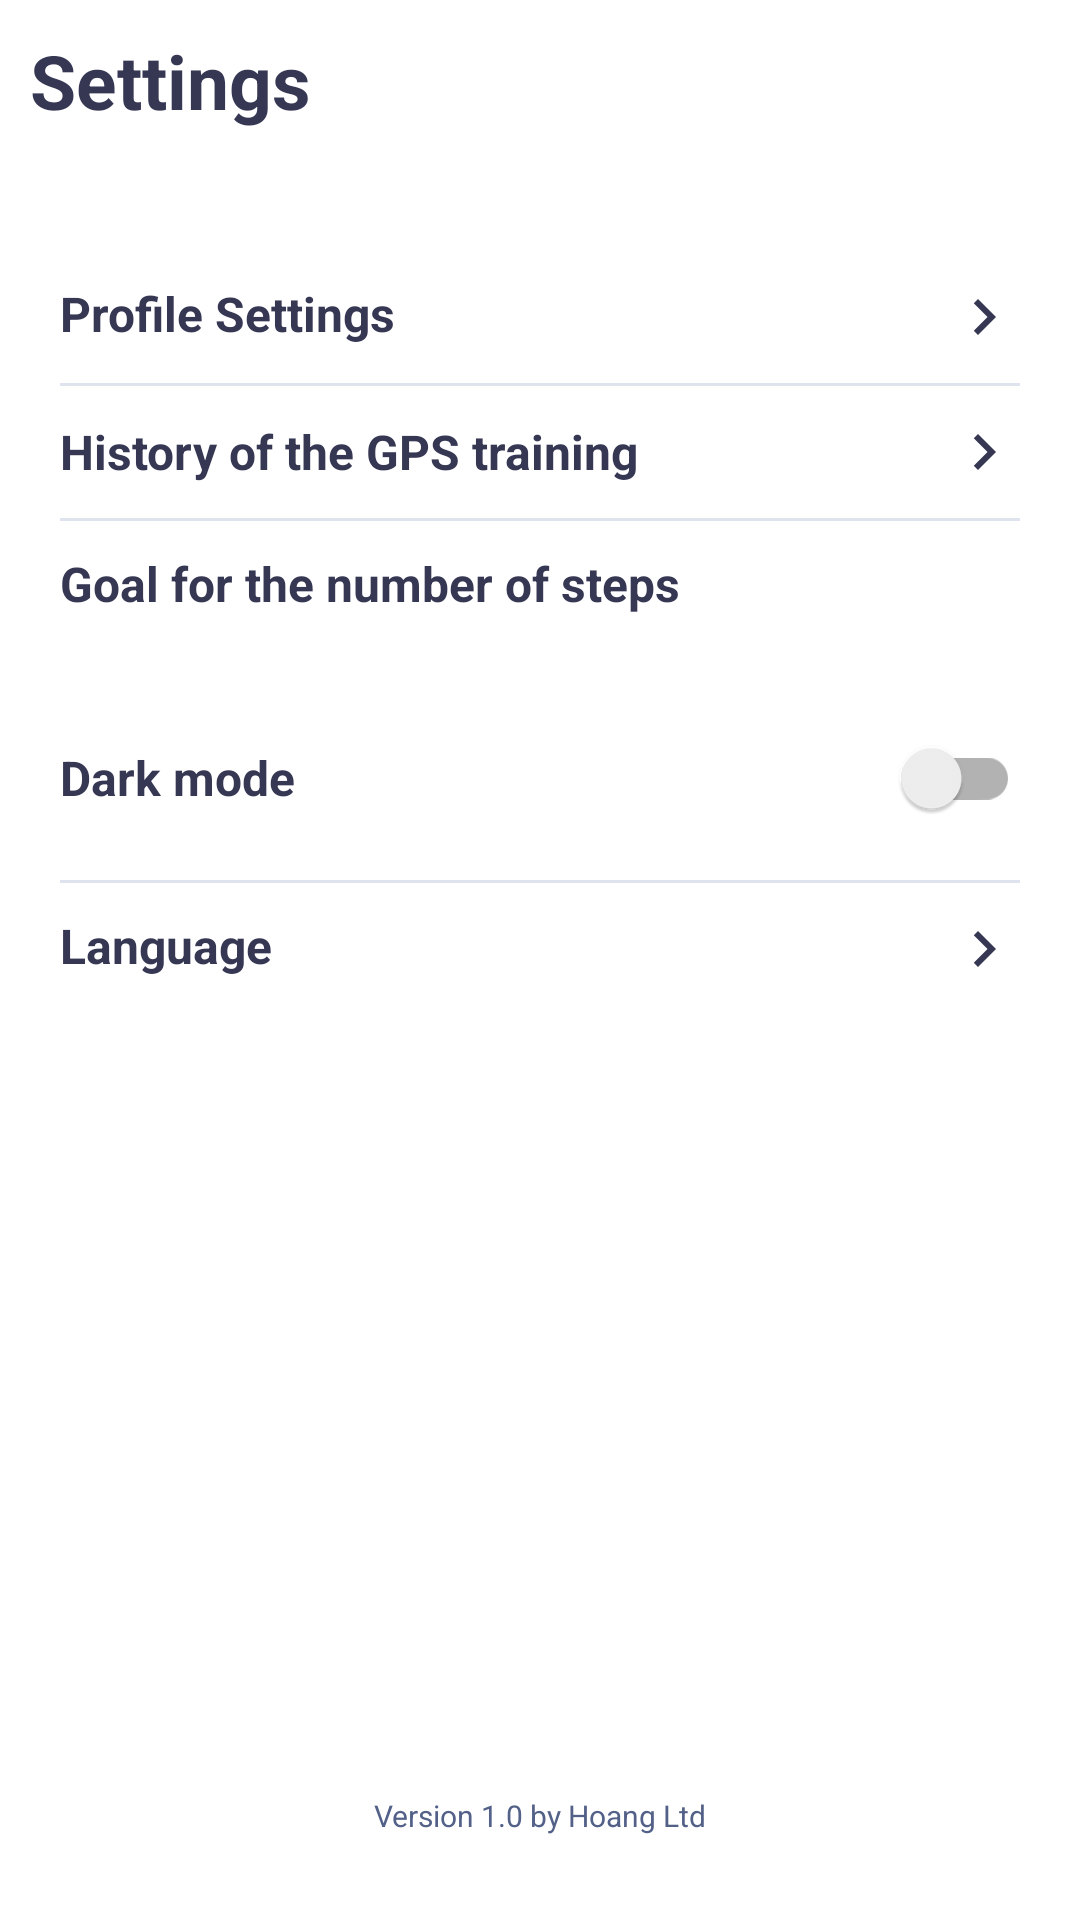

Locate icon controls on the screen. Image size 1080px×1920px, boxes as (x1, y1, x2, y2).
navigate next: (974, 299, 996, 335), (974, 434, 996, 470), (974, 931, 996, 967)
